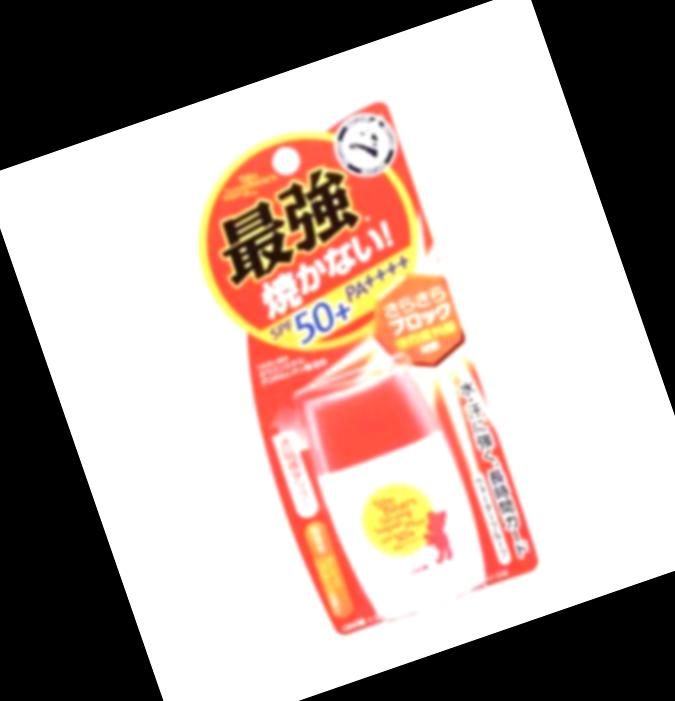cosmetic: (293, 360, 500, 634)
